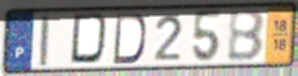2: (153, 14, 184, 63)
5: (190, 9, 225, 67)
B: (226, 8, 267, 63)
D: (69, 11, 114, 67), (111, 13, 147, 66)
I: (38, 13, 51, 68)
